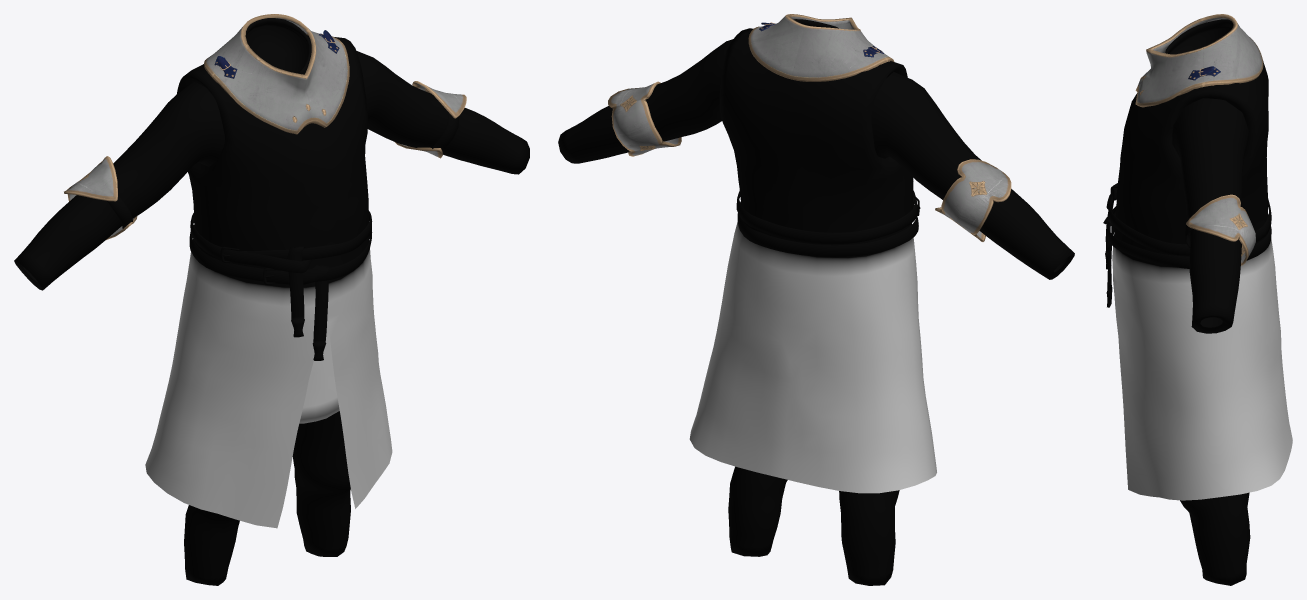
File: swan_knight_armor_tabard1_t3.fbx
3 renders of one model, left to right at view 1: azimuth 30°, elevation 25°; view 2: azimuth 150°, elevation 25°; view 3: azimuth 270°, elevation 25°, orthographic. The views are drawn at different scales.
Visible parts, largest first — view 1: swan_knight_armor_tabard1_t3.0, swan_knight_armor_tabard1_t3.1; view 2: swan_knight_armor_tabard1_t3.0, swan_knight_armor_tabard1_t3.1; view 3: swan_knight_armor_tabard1_t3.0, swan_knight_armor_tabard1_t3.1.
Part boxes in pixels (box(x1,y1,x2,y2)): swan_knight_armor_tabard1_t3.0: box(14, 18, 529, 585); swan_knight_armor_tabard1_t3.1: box(64, 14, 466, 239); swan_knight_armor_tabard1_t3.0: box(558, 19, 1074, 585); swan_knight_armor_tabard1_t3.1: box(608, 14, 1011, 241); swan_knight_armor_tabard1_t3.0: box(1103, 19, 1292, 585); swan_knight_armor_tabard1_t3.1: box(1135, 14, 1263, 265).
Size of the model in its own units: 1.34 by 0.4478 by 1.37.
